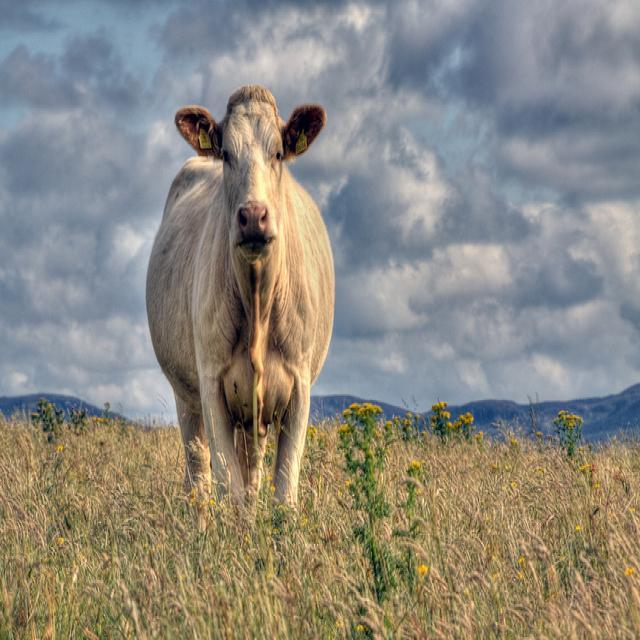cow: (144, 81, 335, 537)
